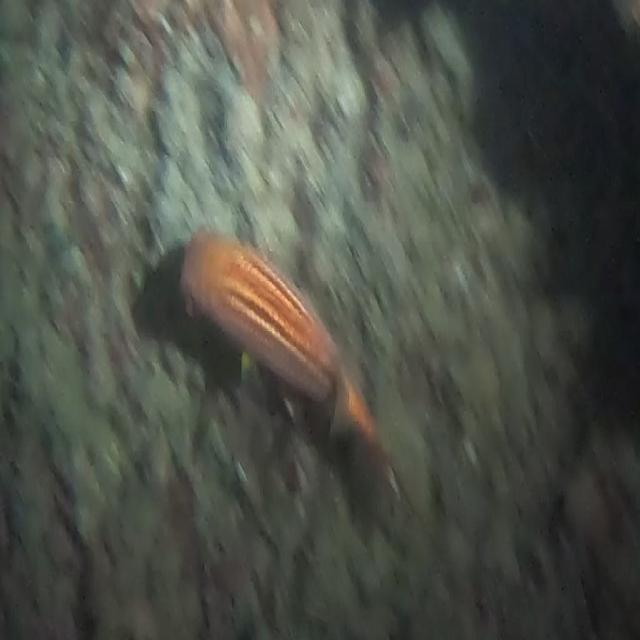Asker Baligi: (171, 203, 406, 524)
